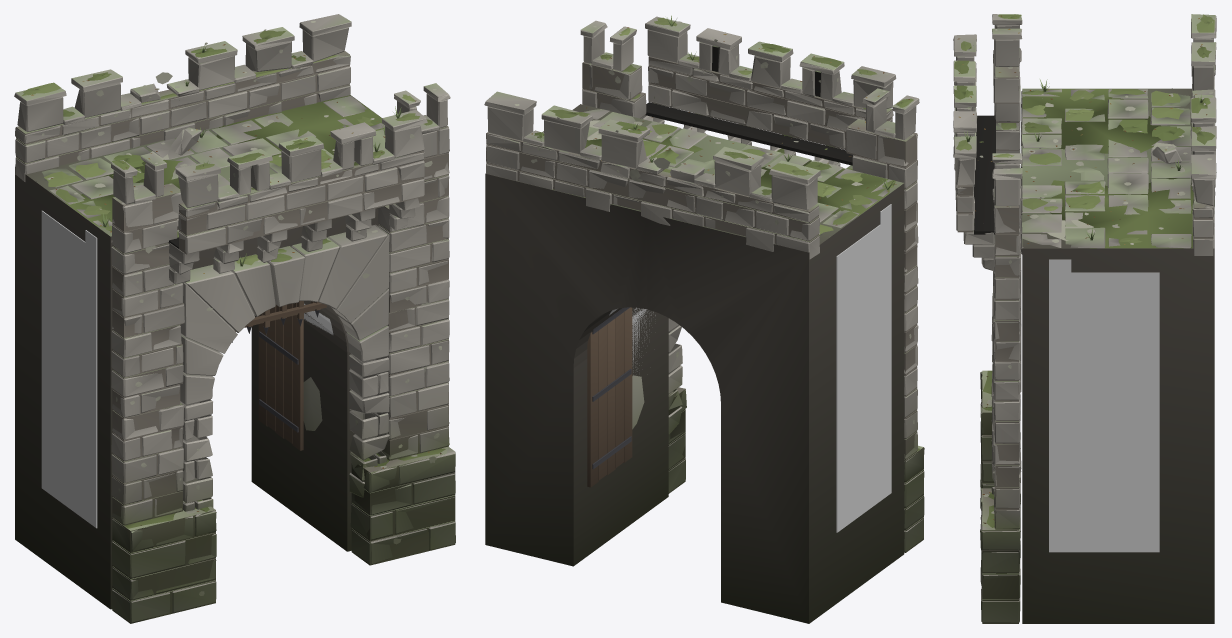
File: gatehouse.glb
3 views of the same model, side by side, from view 1: azimuth 30°, elevation 25°; view 2: azimuth 150°, elevation 25°; view 3: azimuth 270°, elevation 25° (orthographic).
Parts seen in each view (by area): view 1: gatehouse, gatehouse_shadow, gatehouse_move_portcullis_a; view 2: gatehouse, gatehouse_shadow; view 3: gatehouse, gatehouse_shadow.
Part boxes in pixels (x1,y1,x2,y2): gatehouse: [14, 14, 455, 623]; gatehouse_shadow: [41, 210, 333, 528]; gatehouse_move_portcullis_a: [232, 301, 326, 342]; gatehouse: [484, 15, 924, 623]; gatehouse_shadow: [609, 204, 891, 532]; gatehouse: [953, 14, 1216, 623]; gatehouse_shadow: [1049, 259, 1159, 552].
Size of what is drawn, in the model's own units: 8.62 by 11.51 by 5.99.
